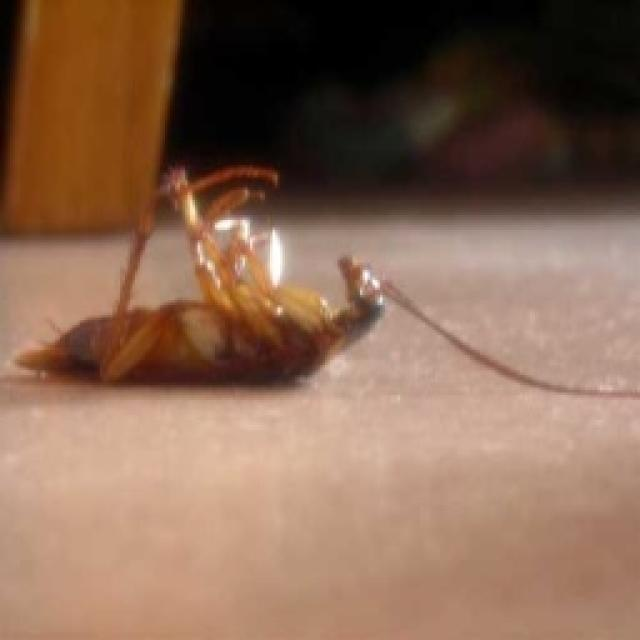cockroach: (13, 159, 388, 390)
